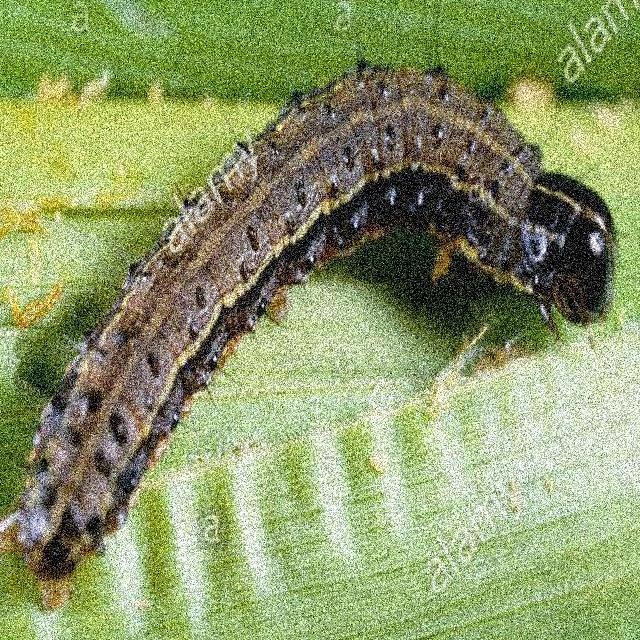gusano_cogollero: (0, 51, 623, 619)
